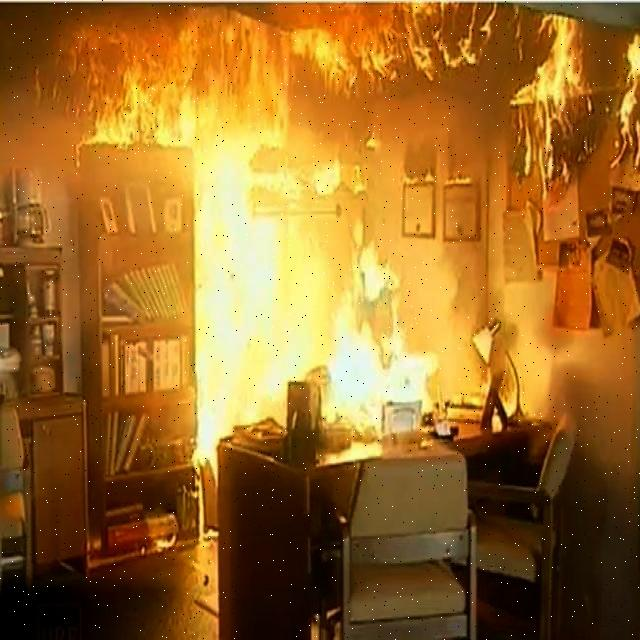fire: (213, 257, 437, 446), (92, 11, 320, 152), (523, 8, 640, 161)
